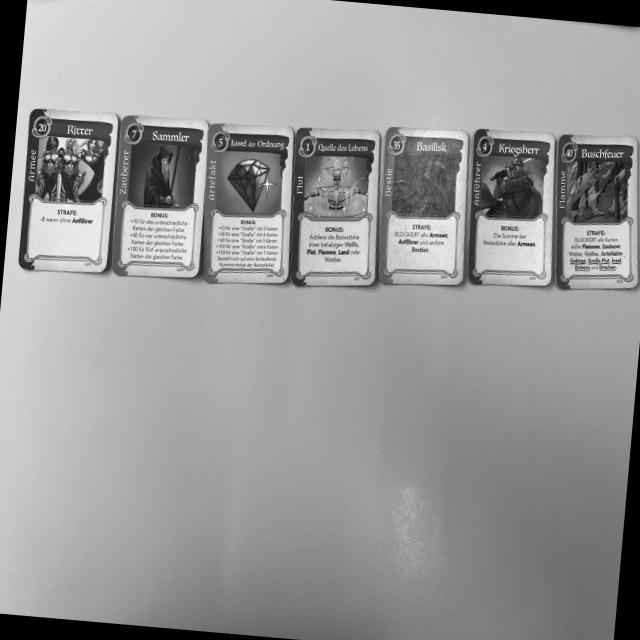Basilisk: (370, 128, 475, 290)
Collector: (106, 108, 211, 284)
Fountain Of Life: (282, 124, 386, 288)
Gem Of Order: (193, 118, 299, 289)
Knights: (14, 106, 120, 278)
Warlord: (462, 128, 558, 284)
Wildfire: (554, 134, 639, 286)
